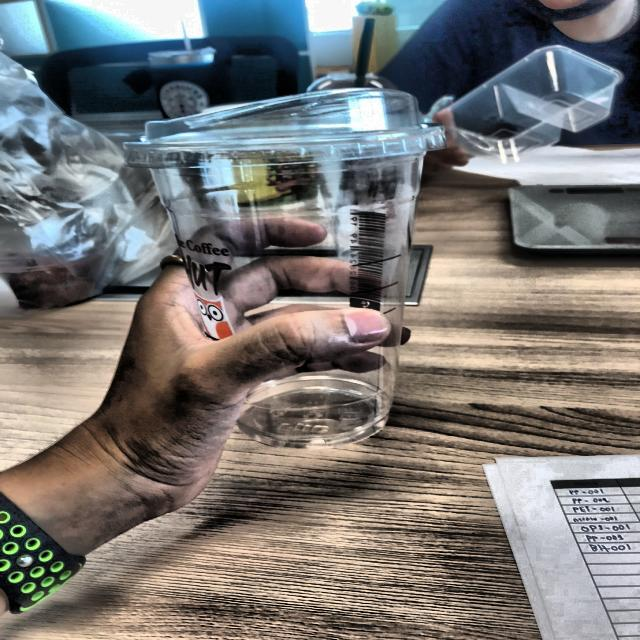plastic cup: (120, 82, 481, 466)
